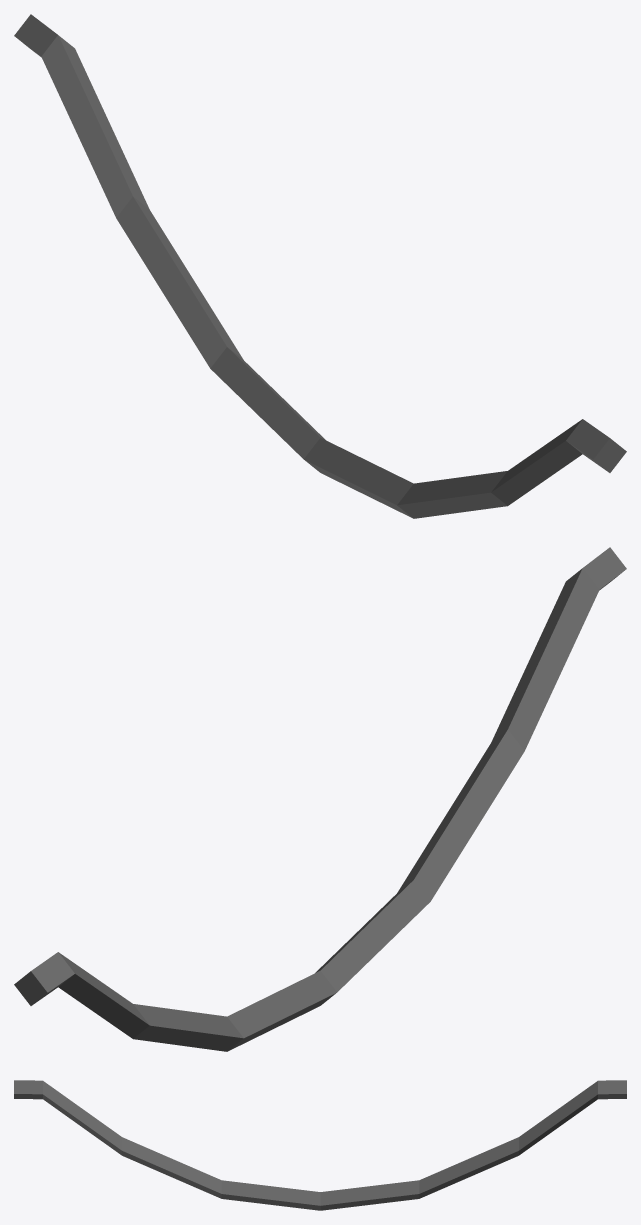
Rendered from Rope.fbx.
The picture shows the model from 3 angles, top to bottom: view 1: azimuth 30°, elevation 25°; view 2: azimuth 150°, elevation 25°; view 3: azimuth 270°, elevation 25°; orthographic projection. The views are drawn at different scales.
Parts seen in each view (by area): view 1: Rope; view 2: Rope; view 3: Rope.
Part boxes in pixels (x1,y1,x2,y2): Rope: (14,14,626,518); Rope: (14,547,626,1051); Rope: (14,1080,626,1210).
Size of the model in its own units: 6.73 by 47 by 200.
